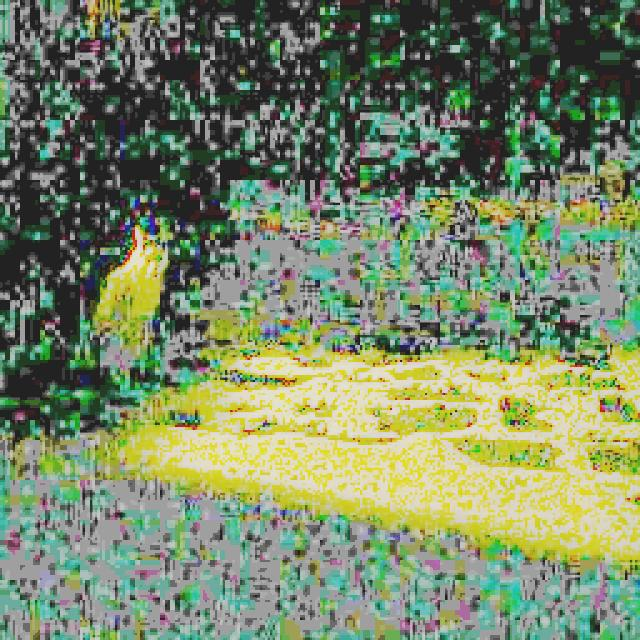cat: (84, 195, 188, 336)
